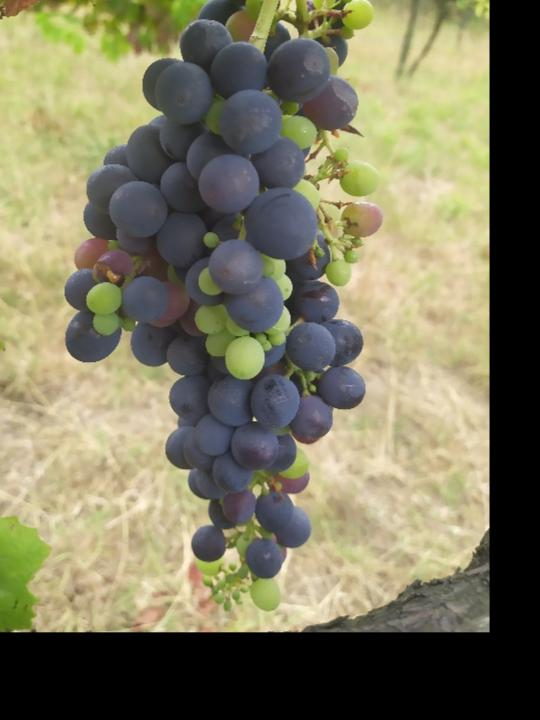grape: (61, 0, 390, 613)
